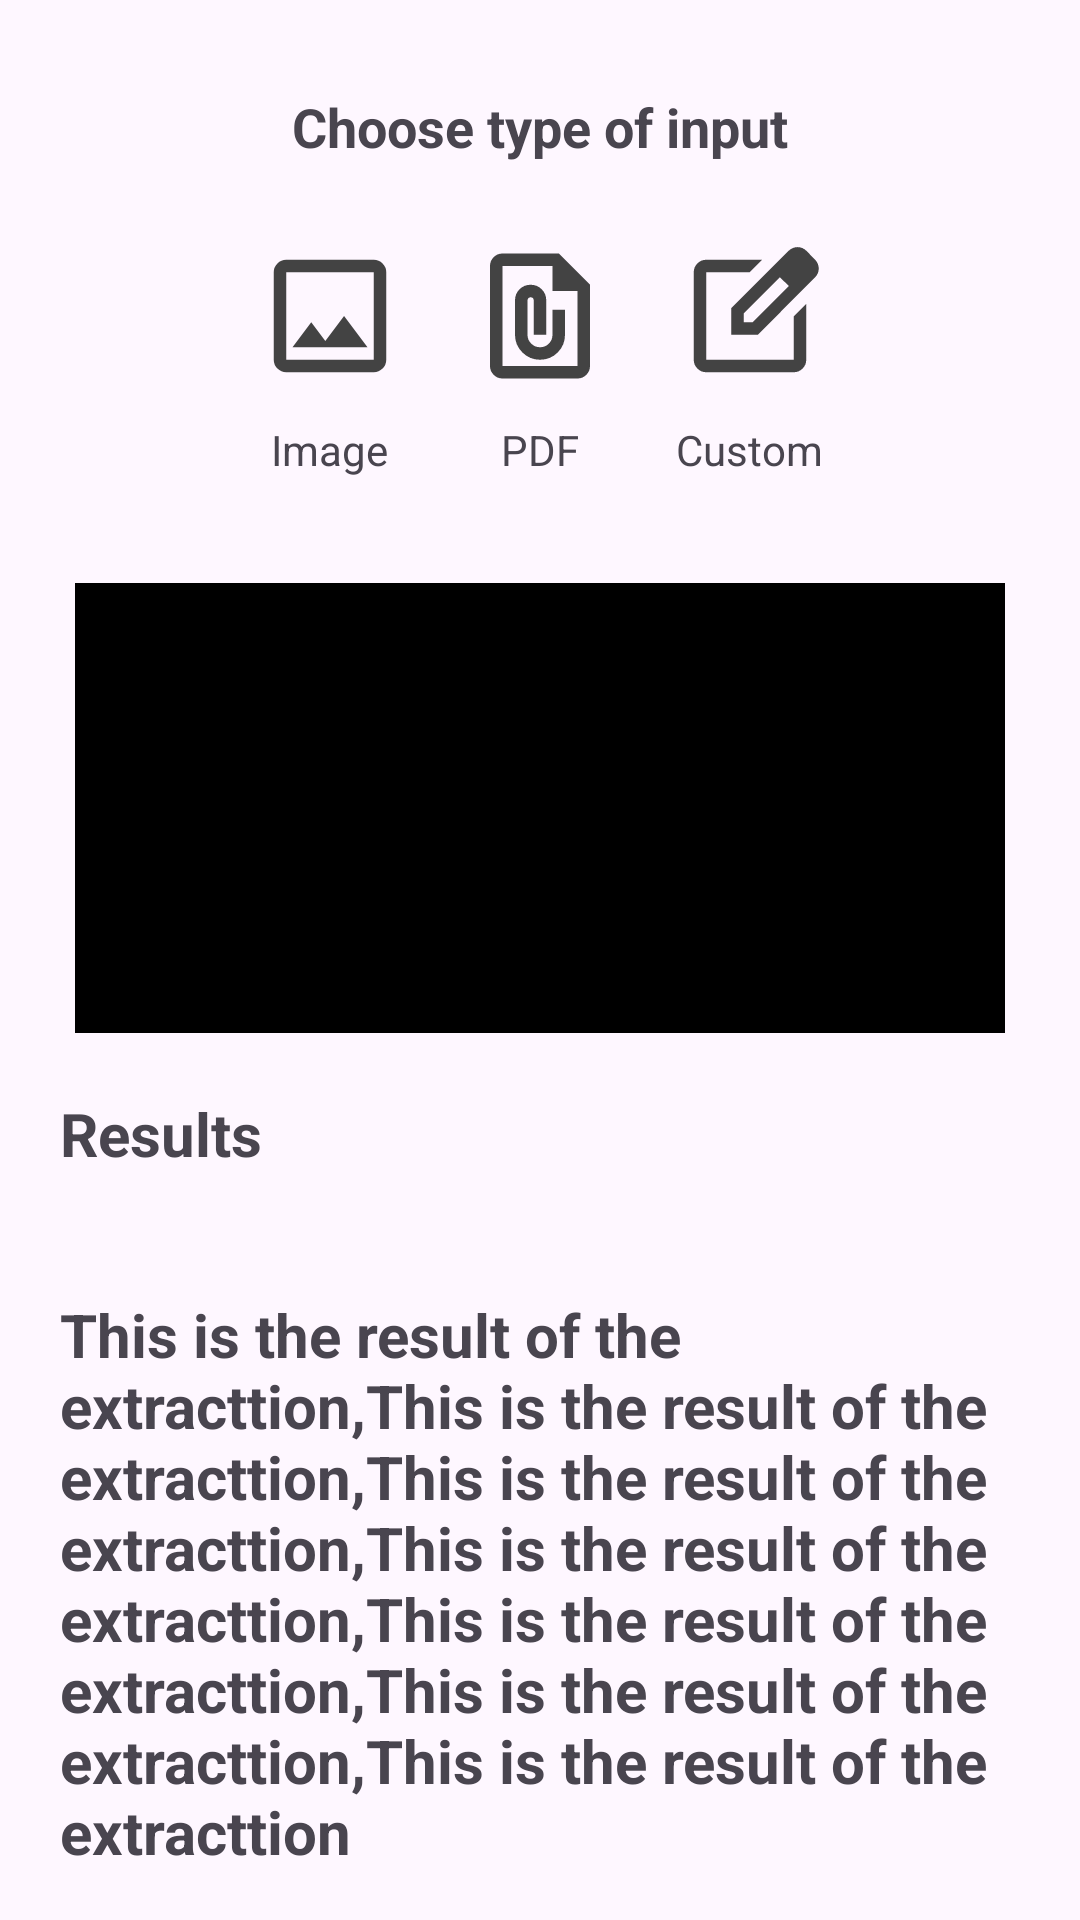

Icon click points for this 1080px×1920px phone screenshot, format [x,y]:
file present: [540,316]
